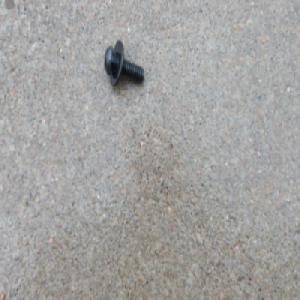BoltWasher: (103, 37, 145, 86)
